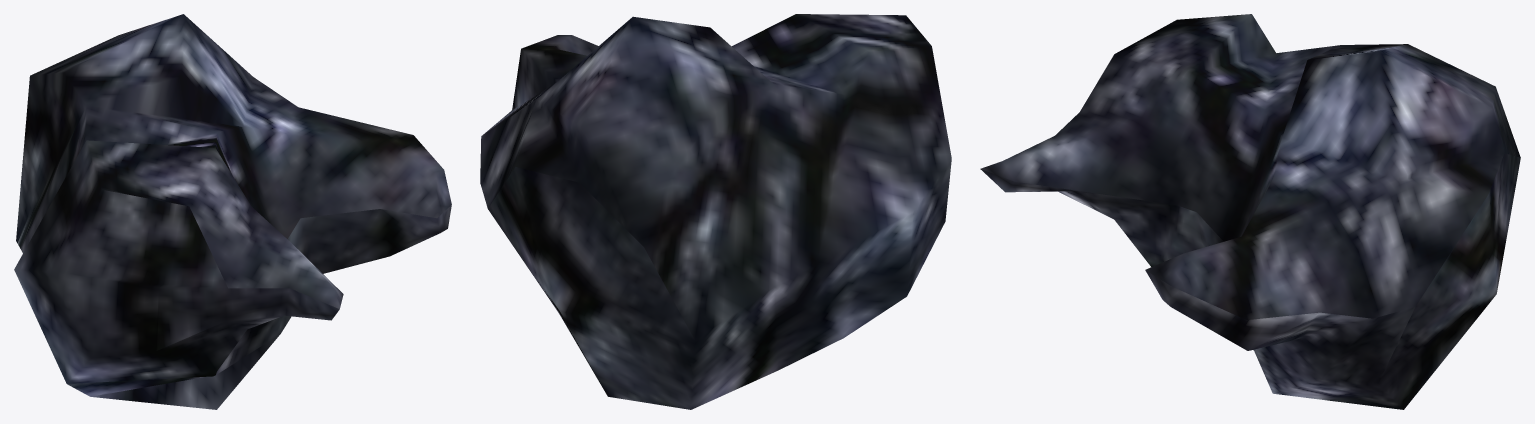
The model's file is nar_condra_7_arm_left_2.glb.
The picture shows the model from 3 angles, left to right: view 1: azimuth 30°, elevation 25°; view 2: azimuth 150°, elevation 25°; view 3: azimuth 270°, elevation 25°; orthographic projection. The views are drawn at different scales.
Visible parts, largest first — view 1: model_nar_condra_7_arm_left_2; view 2: model_nar_condra_7_arm_left_2; view 3: model_nar_condra_7_arm_left_2.
Part boxes in pixels (x1,y1,x2,y2): model_nar_condra_7_arm_left_2: (14, 14, 451, 409); model_nar_condra_7_arm_left_2: (480, 14, 951, 409); model_nar_condra_7_arm_left_2: (980, 14, 1520, 409).
Bounding box in the file's own units: 0.7664 × 0.6503 × 0.9023.
1 material, 1 textured.
